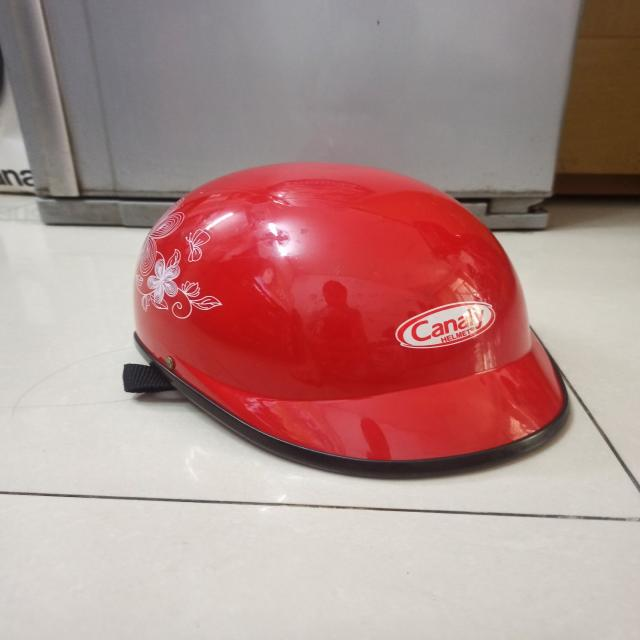Helmet: (121, 158, 575, 480)
